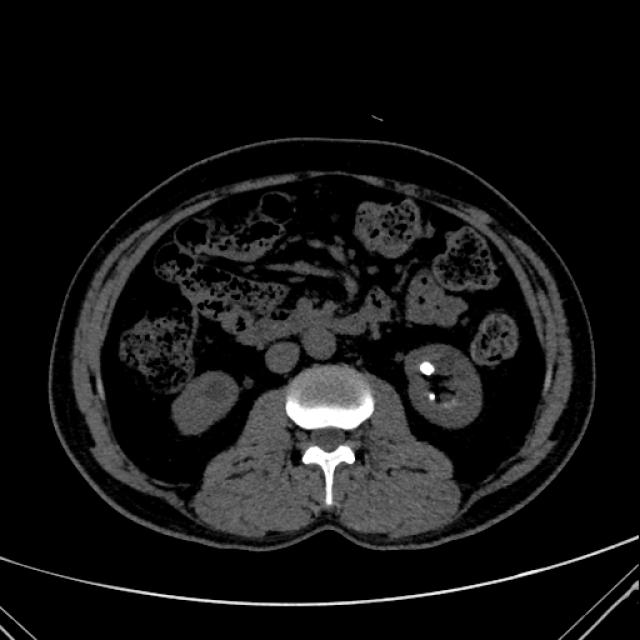kidneystone: (420, 362, 436, 377), (429, 392, 436, 401)
